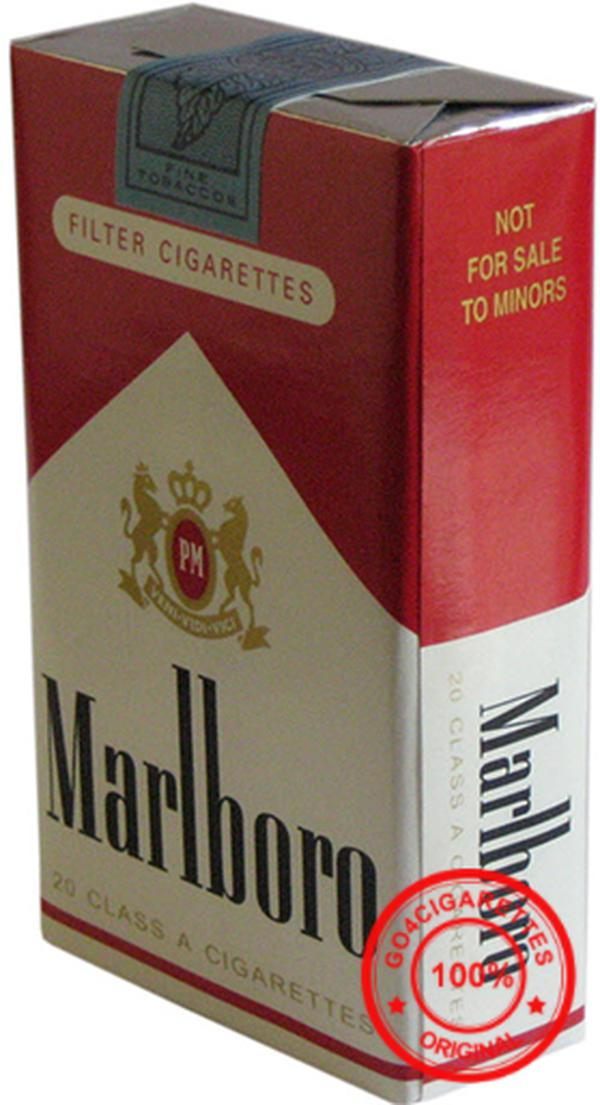marlboro_red: (39, 147, 414, 963)
